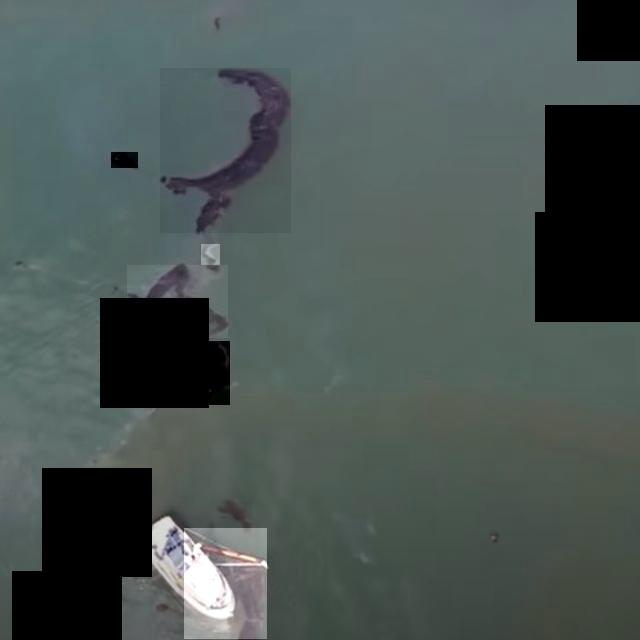oil spill: (160, 69, 291, 233), (185, 529, 267, 639), (127, 265, 228, 338), (156, 342, 230, 405), (218, 501, 252, 535), (201, 244, 220, 272), (111, 152, 137, 168)
